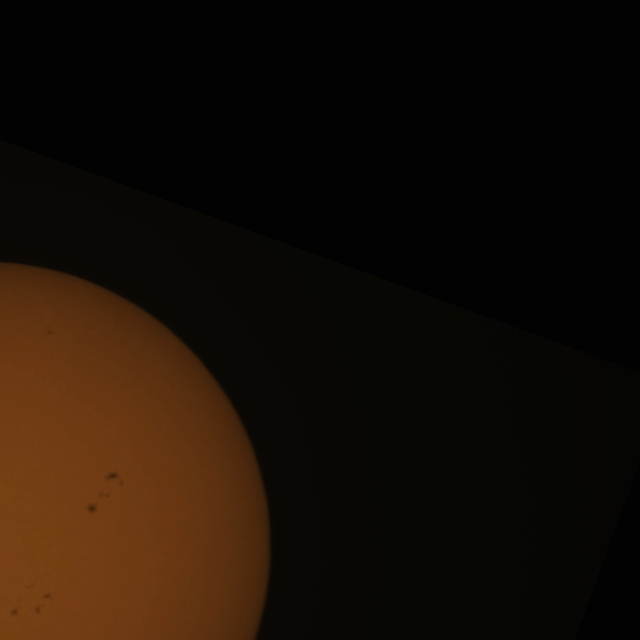sunspot: (85, 488, 113, 514), (100, 471, 124, 493), (34, 593, 52, 616), (85, 502, 99, 516), (34, 604, 43, 616), (10, 608, 19, 618)
